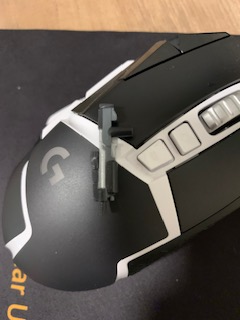rifle: (89, 102, 132, 207)
